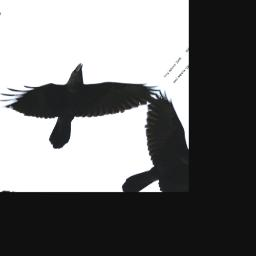Crow: (0, 22, 163, 171)
